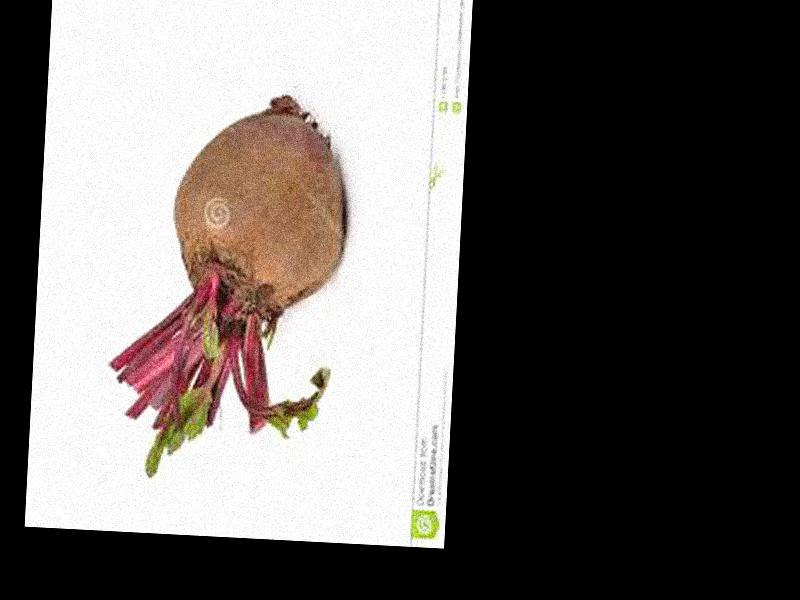Beet: (106, 86, 349, 484)
